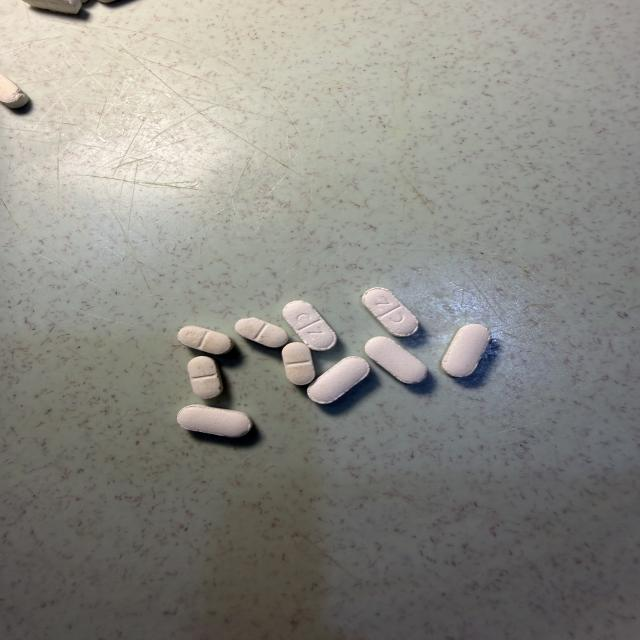pill: (365, 337, 427, 384), (308, 357, 369, 404), (362, 288, 418, 337), (442, 324, 491, 377), (283, 301, 336, 350), (178, 405, 252, 437), (178, 326, 233, 354), (235, 318, 288, 347), (188, 356, 222, 398), (282, 343, 315, 385), (0, 75, 28, 108), (24, 0, 82, 13)
